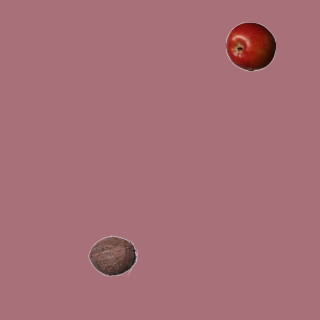Apple Braeburn: (225, 21, 275, 71)
Cocos: (87, 230, 137, 280)
